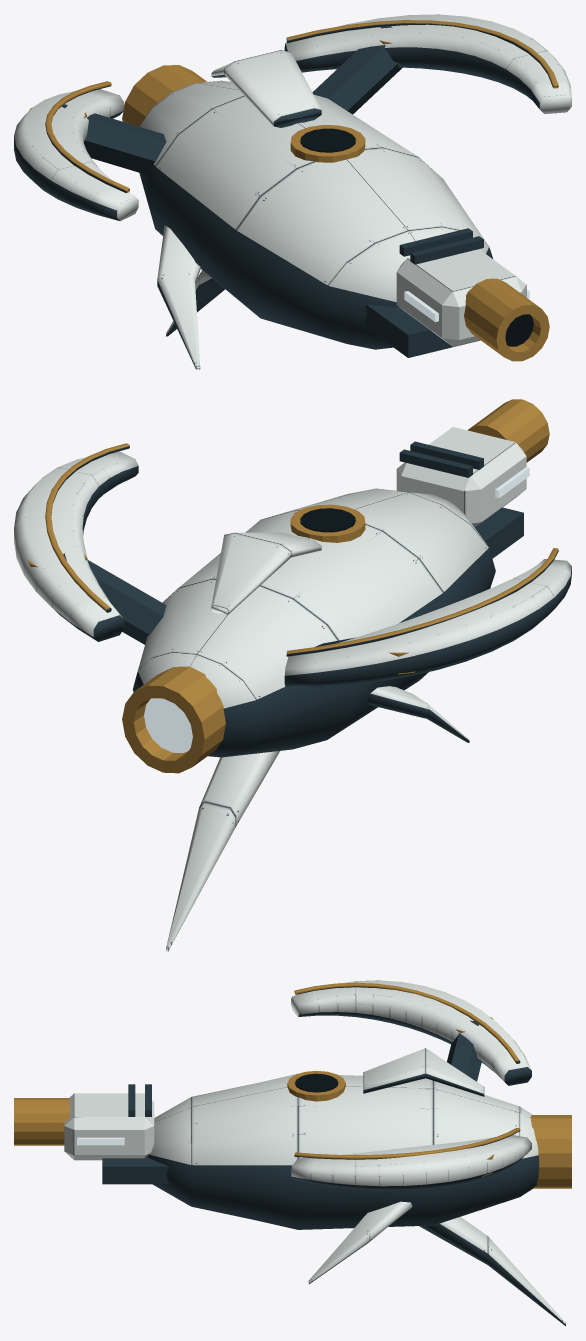
File: pioneer-europa-l04-laser.glb
3 views of the same model, one above another, from view 1: azimuth 30°, elevation 25°; view 2: azimuth 150°, elevation 25°; view 3: azimuth 270°, elevation 25° (orthographic). The views are drawn at different scales.
Visible parts, largest first — view 1: Drone; view 2: Drone; view 3: Drone.
Boxes of the visible parts, box(x1,y1,x2,y2) form: Drone: box(14, 14, 571, 370); Drone: box(14, 399, 571, 951); Drone: box(14, 980, 571, 1326).
Bounding box in the file's own units: 1.16 × 0.762 × 1.43.
3 materials, 3 textured.
